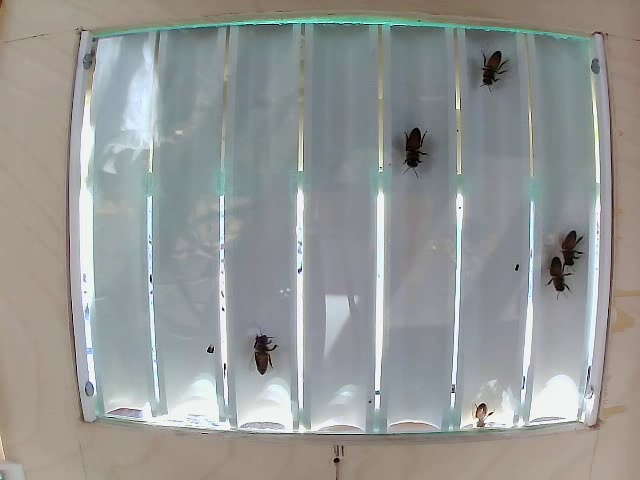bee: (229, 333, 282, 379), (387, 132, 429, 180), (478, 47, 520, 89), (558, 226, 586, 273), (537, 259, 563, 303)
